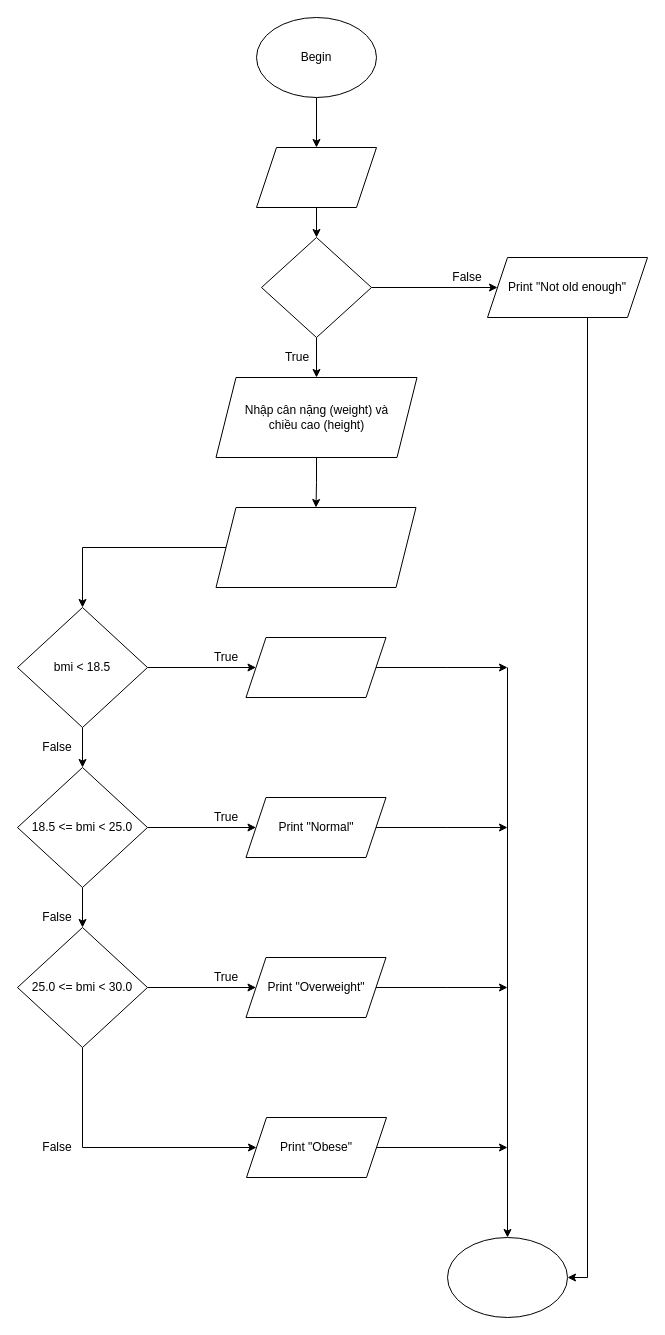
Some shapes in this 665 by 1335 pixel diagram are drawn without their labels. The centre of each missing label's shape, as x and y in pixels:
age >= 16: (316,287)
Chỉ số BMI bmi = weight / (height * height): (315,547)
End: (507,1277)
Nhập tuổi (age): (316,177)
Print "Underweight": (315,667)
